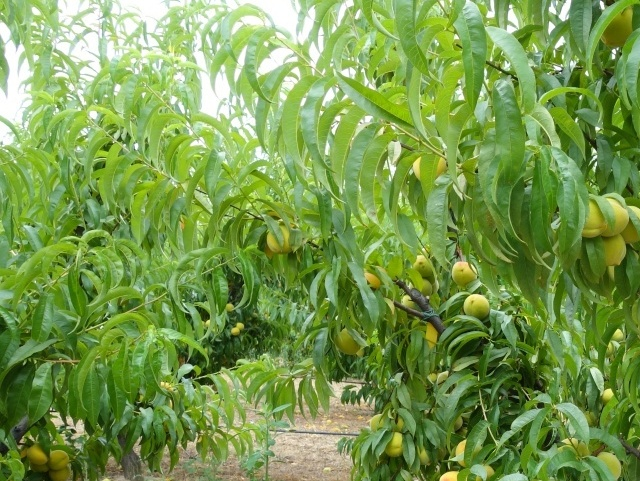peach: (596, 191, 632, 240), (577, 195, 611, 241), (601, 7, 636, 50), (407, 151, 449, 186), (597, 230, 630, 273), (261, 223, 300, 258), (332, 324, 366, 359), (591, 447, 625, 481), (461, 291, 494, 323), (453, 438, 487, 469), (360, 259, 391, 291), (447, 258, 480, 288), (22, 440, 53, 469), (380, 429, 407, 458), (409, 250, 434, 279), (44, 447, 73, 471), (413, 271, 438, 298), (366, 411, 391, 437), (447, 411, 470, 436), (602, 336, 624, 361), (48, 466, 79, 481), (605, 326, 632, 343), (599, 386, 617, 408)
